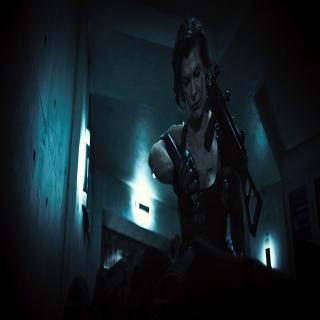gun: (202, 56, 265, 255)
